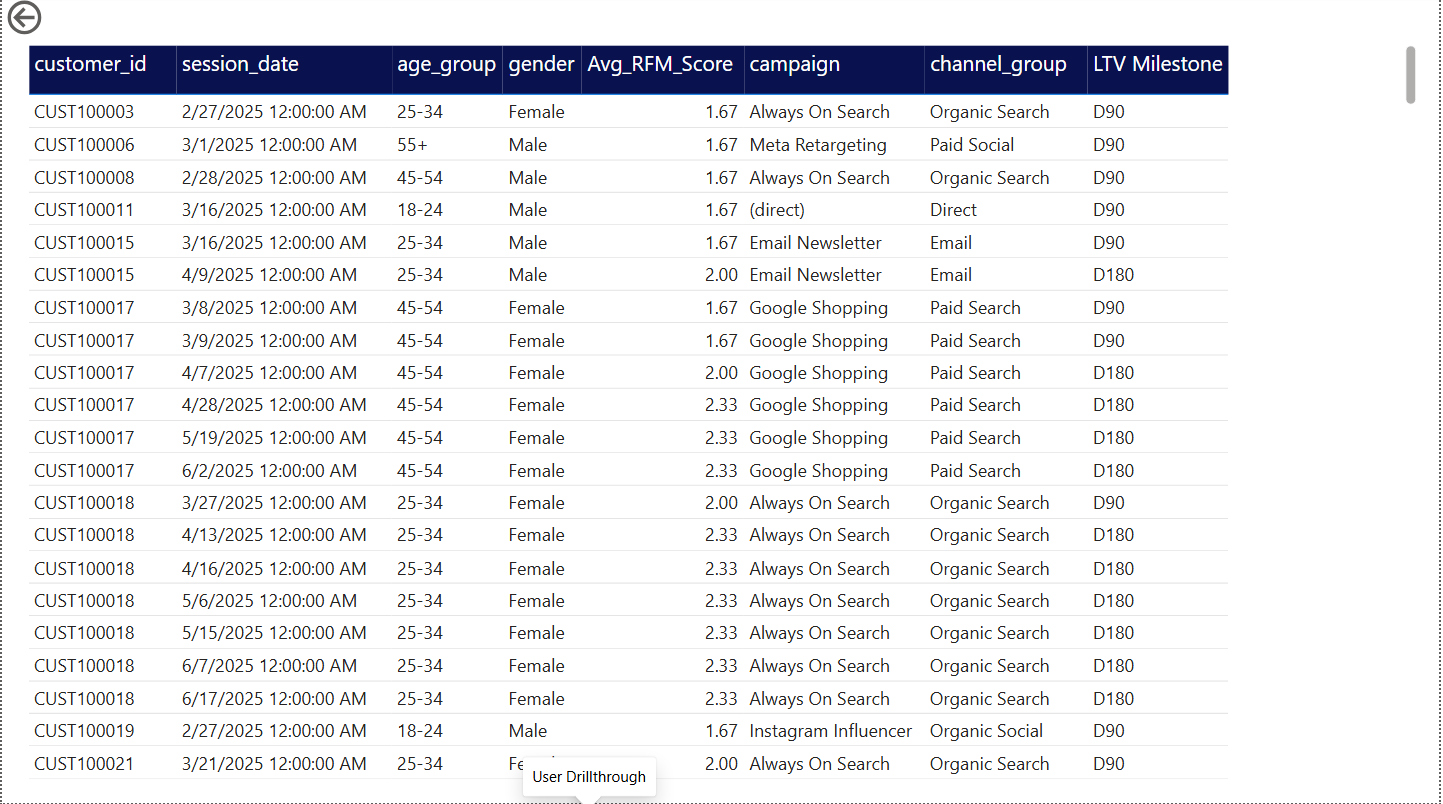

What the dashboard file says about the page in this screenshot:
{"tool":"powerbi","page":{"name":"User Drillthrough","canvas":[1280,720],"ordinal":3},"visuals":[{"type":"actionButton","box":[0,0,100,40],"z":0},{"type":"tableEx","fields":{"Values":["Sheet1.customer_id","Sheet1.session_date","Sheet1.age_group","Sheet1.gender","Sheet1.Avg_RFM_Score","Sheet1.campaign","Sheet1.channel_group","Sheet1.LTV Milestone"]},"box":[18.1,39.8,1246.3,663.5],"z":1000}]}

Visuals, with their boxes on the page's 1280x720 design canvas (x1, y1, x2, y2). These are canvas units, not pixel positions in the 1443x804 screenshot, which may show the page scaled, cropped or inside an application window:
actionButton: (left=0, top=0, right=100, bottom=40)
tableEx - Sheet1.customer_id x Sheet1.session_date: (left=18, top=40, right=1264, bottom=703)
